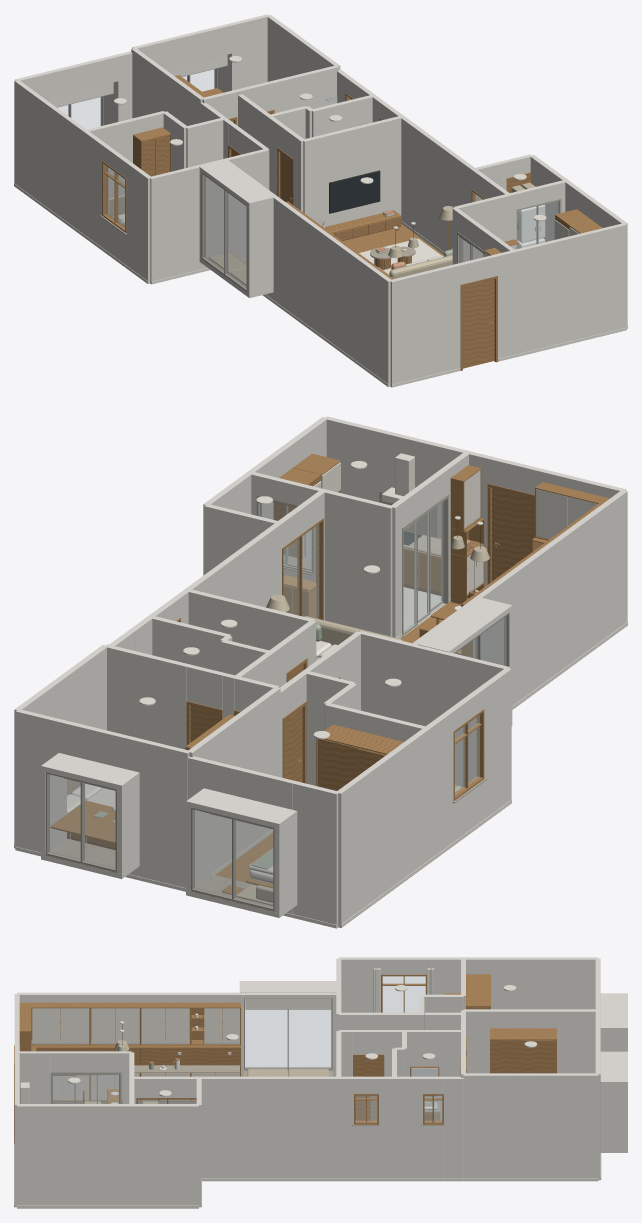
The model's file is huiyayuan-wood.glb.
3 renders of one model, top to bottom at view 1: azimuth 30°, elevation 25°; view 2: azimuth 150°, elevation 25°; view 3: azimuth 270°, elevation 25°, orthographic. The views are drawn at different scales.
Parts seen in each view (by area): view 1: Wall 04 / pier.001, Wall 03 / pier.001, Wall 01 / pier, Wall 13 / pier, Wall 04 / pier, Wall 07 / pier.003, Wall 02 / pier, Wall 08 / pier, Wall 01 / pier.001, entry_door / oak door leaf, Wall 07 / pier, Wall 05 / pier (+42 smaller); view 2: Wall 03 / pier.001, Wall 01 / pier, Wall 16 / pier, Wall 04 / pier.001, Wall 10 / pier.002, Wall 00 / pier.002, Wall 08 / pier, Wall 00 / pier, Wall 02 / pier, Wall 00 / pier.003, Wall 07 / pier.003, Wall 07 / pier (+61 smaller); view 3: Wall 05 / pier, Wall 07 / pier.003, Wall 07 / pier, Wall 01 / pier, Wall 08 / pier, Wall 07 / pier.002, Wall 11 / pier, Wall 03 / pier.001, window_living_west / bay clear glazing panel.001, window_living_west / bay clear glazing panel, Wall 01 / pier.001, Wall 07 / pier.001 (+55 smaller).
Part boxes in pixels (x1,y1,x2,y2): Wall 04 / pier.001: [495, 223, 626, 358]; Wall 03 / pier.001: [271, 195, 392, 386]; Wall 01 / pier: [14, 80, 106, 247]; Wall 13 / pier: [302, 115, 402, 226]; Wall 04 / pier: [390, 263, 460, 387]; Wall 07 / pier.003: [392, 110, 475, 251]; Wall 02 / pier: [150, 159, 225, 284]; Wall 08 / pier: [131, 48, 203, 125]; Wall 01 / pier.001: [126, 161, 151, 283]; entry_door / oak door leaf: [463, 279, 494, 368]; Wall 07 / pier: [266, 14, 340, 81]; Wall 05 / pier: [530, 155, 627, 328]; Wall 03 / pier.001: [473, 490, 627, 705]; Wall 01 / pier: [336, 710, 453, 927]; Wall 16 / pier: [323, 489, 393, 636]; Wall 04 / pier.001: [324, 416, 490, 586]; Wall 10 / pier.002: [104, 644, 189, 749]; Wall 00 / pier.002: [135, 738, 190, 887]; Wall 08 / pier: [187, 687, 280, 873]; Wall 00 / pier: [292, 781, 339, 928]; Wall 02 / pier: [412, 645, 510, 786]; Wall 00 / pier.003: [15, 709, 66, 852]; Wall 07 / pier.003: [175, 522, 281, 624]; Wall 07 / pier: [14, 645, 106, 848]; Wall 05 / pier: [17, 1104, 198, 1205]; Wall 07 / pier.003: [199, 1076, 353, 1178]; Wall 07 / pier: [463, 1073, 598, 1178]; Wall 01 / pier: [427, 957, 598, 1009]; Wall 08 / pier: [463, 1009, 598, 1073]; Wall 07 / pier.002: [379, 1076, 422, 1178]; Wall 11 / pier: [384, 1030, 460, 1120]; Wall 03 / pier.001: [17, 992, 243, 1076]; window_living_west / bay clear glazing panel.001: [245, 1009, 287, 1067]; window_living_west / bay clear glazing panel: [289, 1010, 330, 1067]; Wall 01 / pier.001: [339, 957, 380, 1012]; Wall 07 / pier.001: [444, 1076, 463, 1178].
Size of the model in its own units: 8.46 by 2.8 by 14.67.
23 materials, 4 textured.
